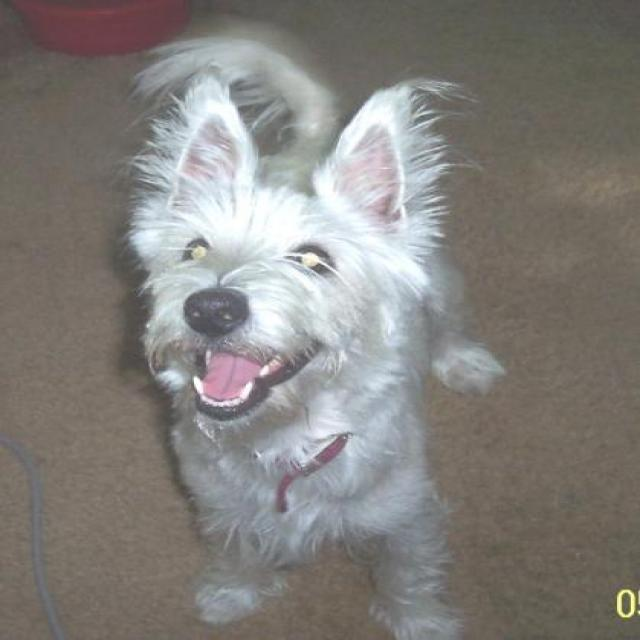dogs: (121, 30, 506, 640)
